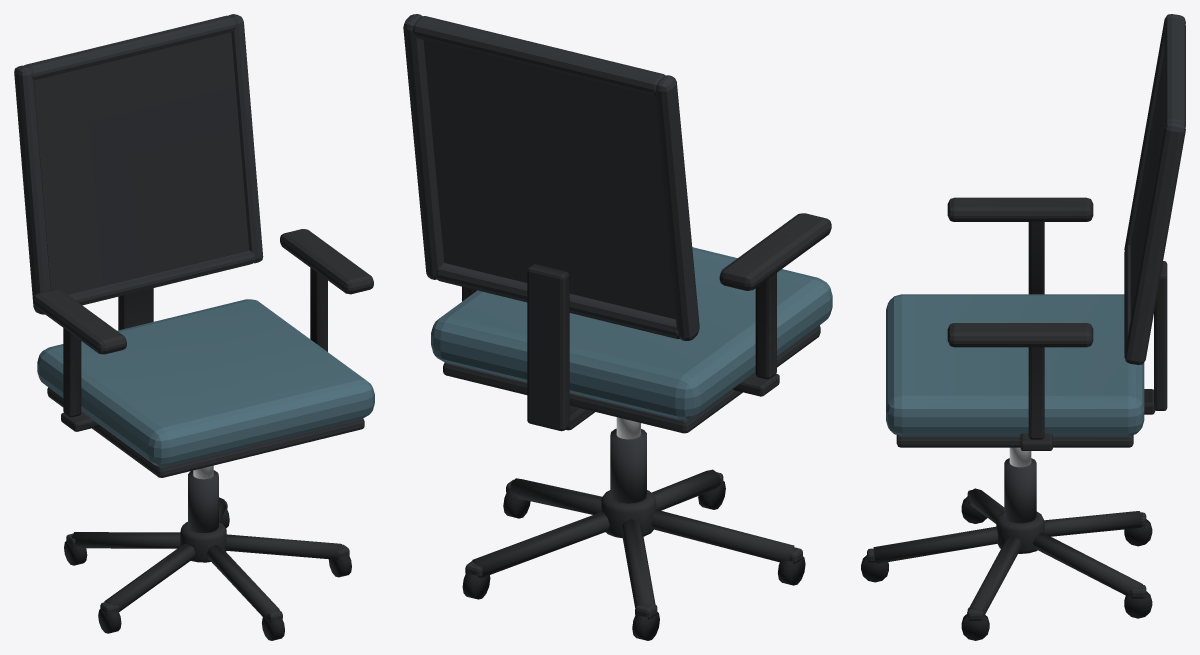
The model's file is chairTask.glb.
3 views of the same model, side by side, from view 1: azimuth 30°, elevation 25°; view 2: azimuth 150°, elevation 25°; view 3: azimuth 270°, elevation 25° (orthographic). The views are drawn at different scales.
Parts seen in each view (by area): view 1: seat, base; view 2: seat, base; view 3: seat, base.
Part boxes in pixels (left/top/right/bottom): seat: left=14, top=14, right=374, bottom=477; base: left=64, top=465, right=351, bottom=640; seat: left=403, top=14, right=832, bottom=433; base: left=462, top=417, right=805, bottom=640; seat: left=886, top=14, right=1185, bottom=450; base: left=861, top=447, right=1152, bottom=640.
Size of the model in its own units: 0.615 by 1.05 by 0.603.
